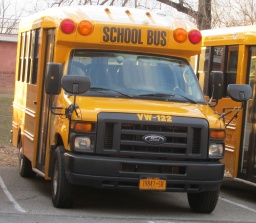bus: (11, 15, 226, 212)
